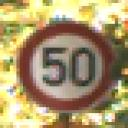speed_limit_50: (16, 23, 116, 114)
